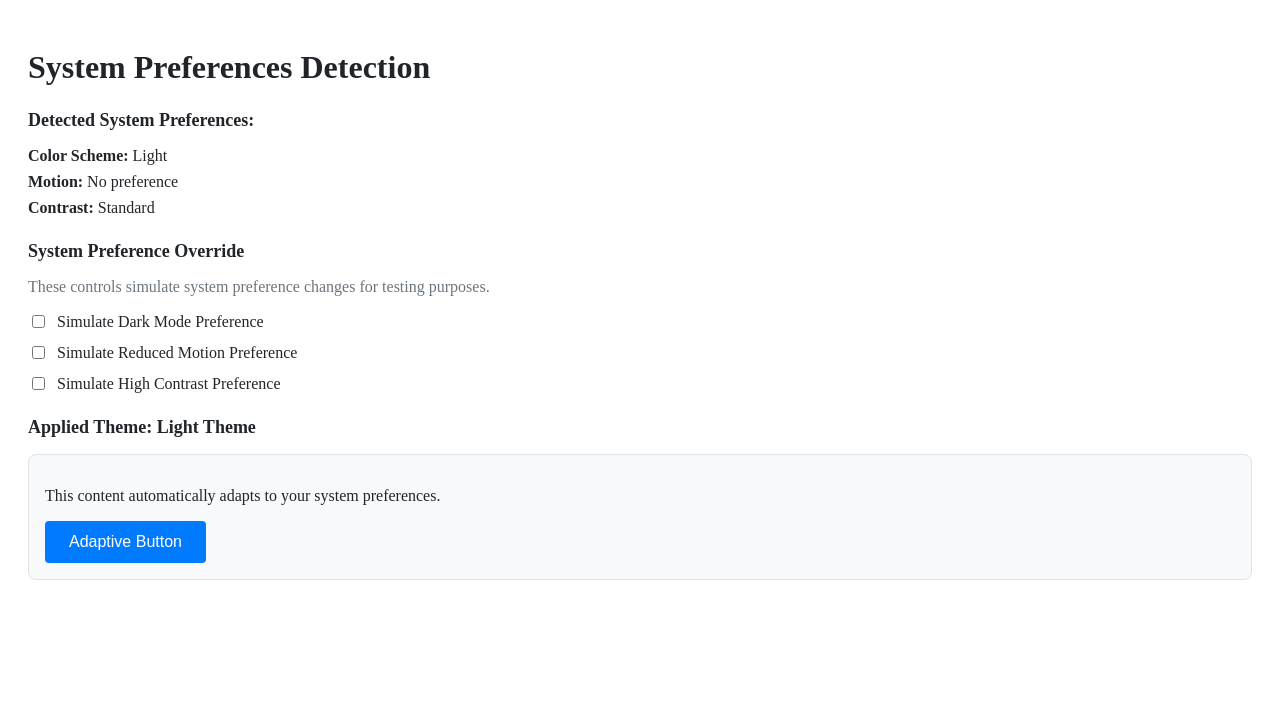
Scenario: Theme System Accessibility › should respect system preferences for theme and motion
Click the checkbox labelled "Simulate Dark Mode Preference" at (38, 322), box [32,315,45,328]
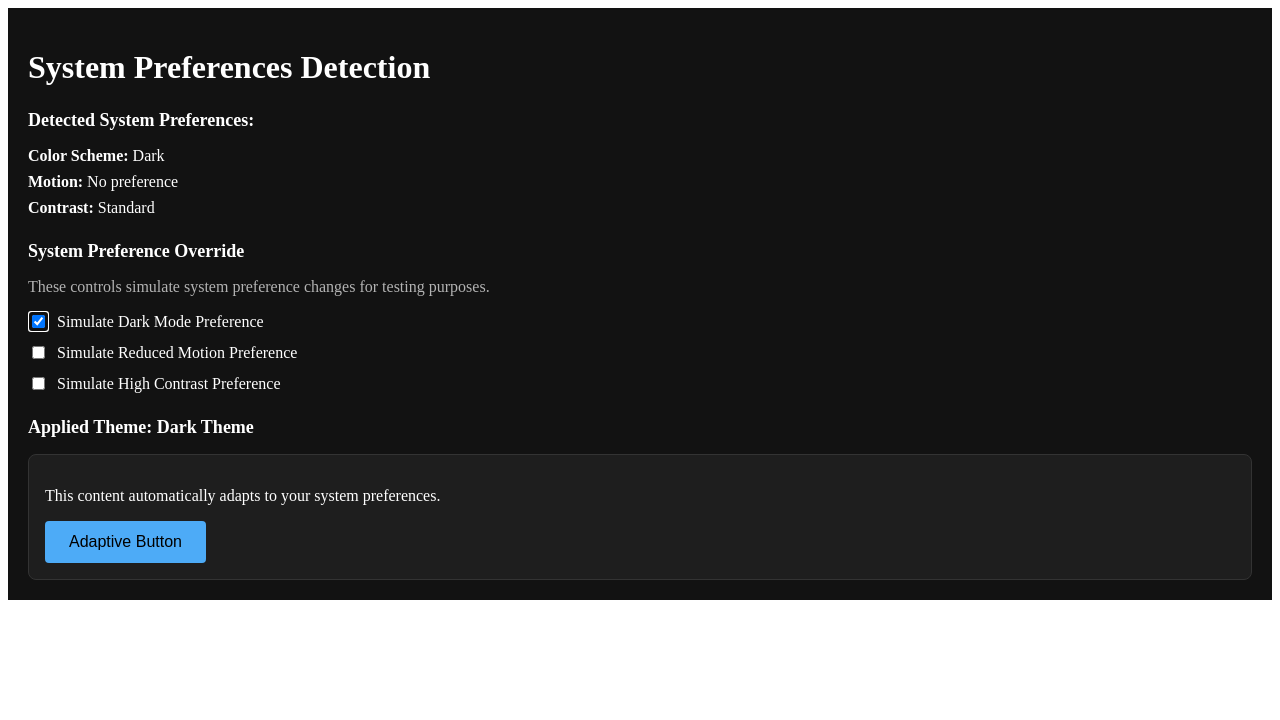
Now the heading "Applied Theme: Dark Theme" is shown, box [28,417,254,437]
Click the checkbox labelled "Simulate High Contrast Preference" at (38, 384), box [32,377,45,390]
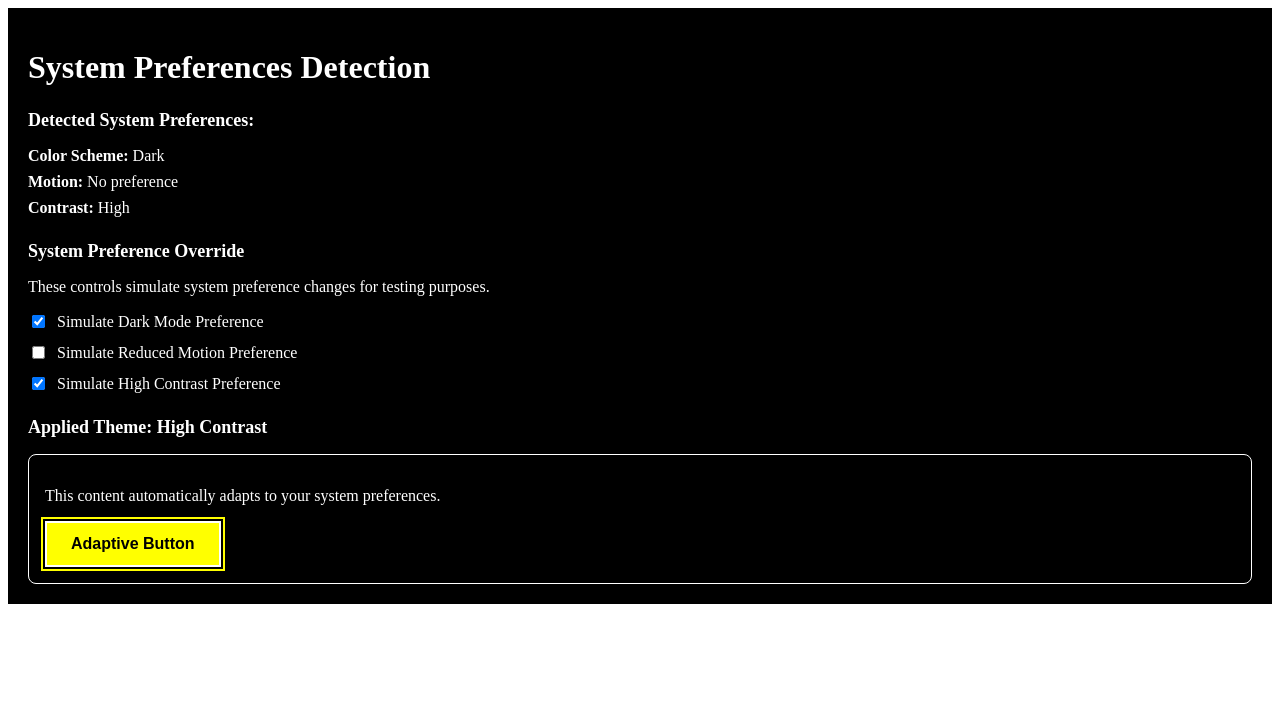
Now the heading "Applied Theme: High Contrast" is shown, box [28,417,267,437]
